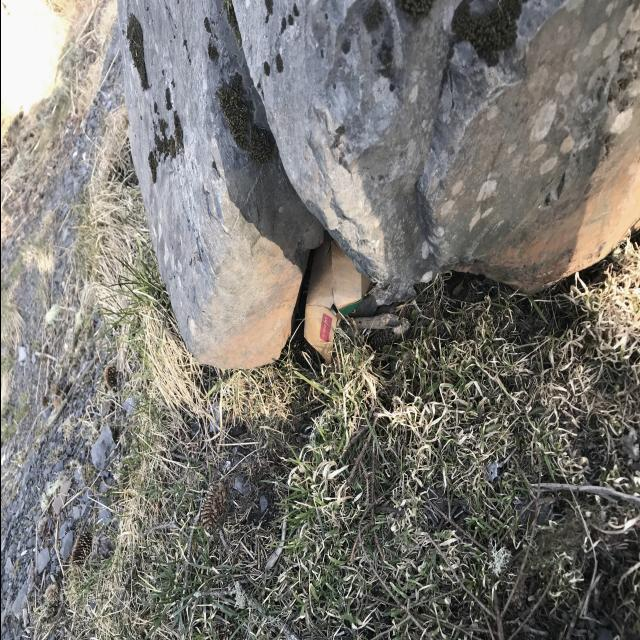Meal carton: (303, 229, 370, 363)
